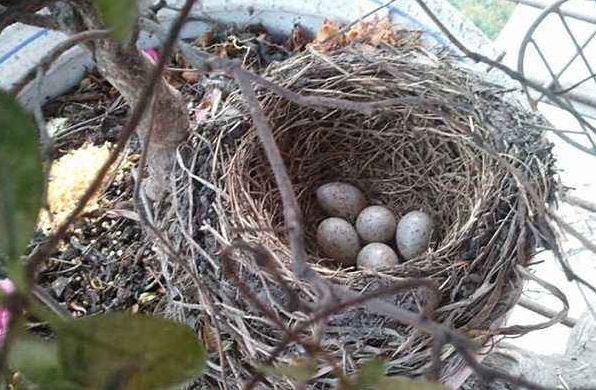bird-nest: (185, 45, 558, 361)
